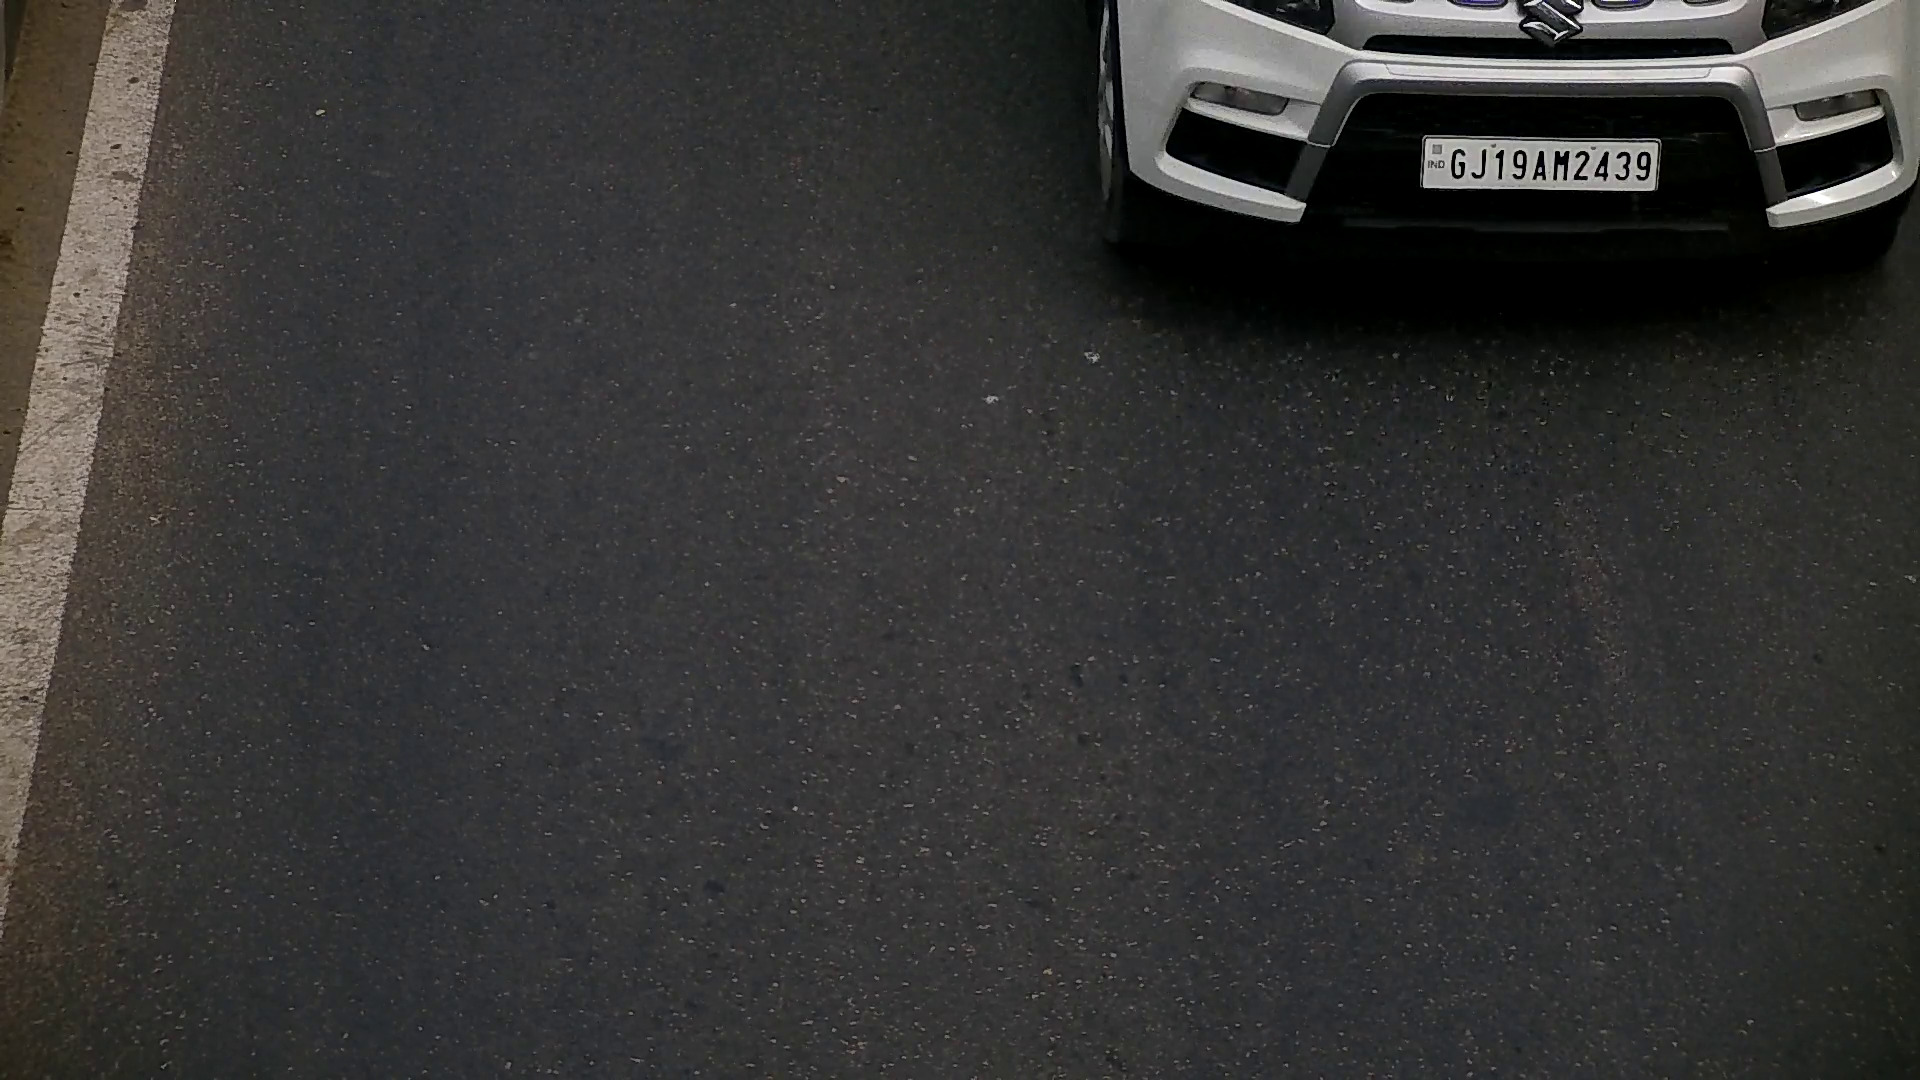numberplate: (1422, 129, 1662, 199)
